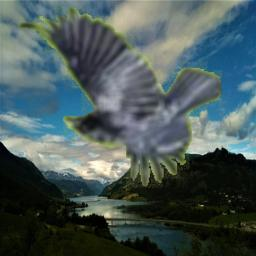Crow: (17, 6, 222, 188)
